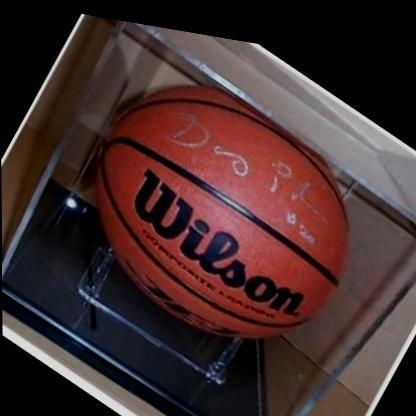basketball: (49, 20, 396, 402)
